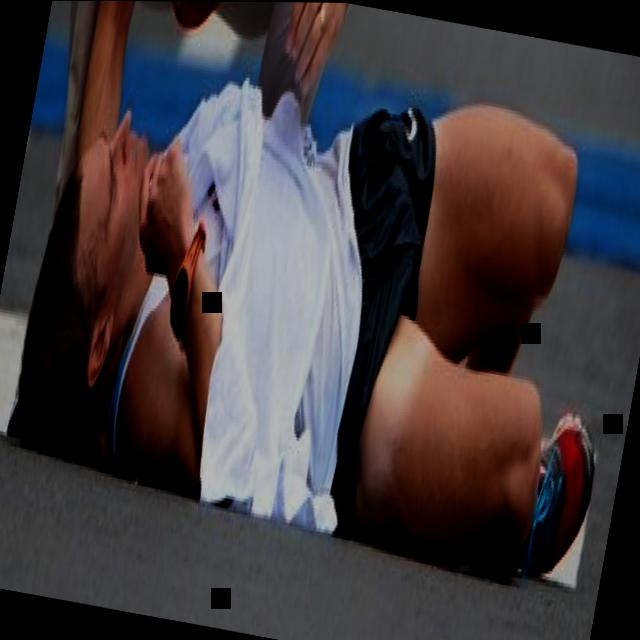Fall-Detected: (0, 0, 640, 607)
